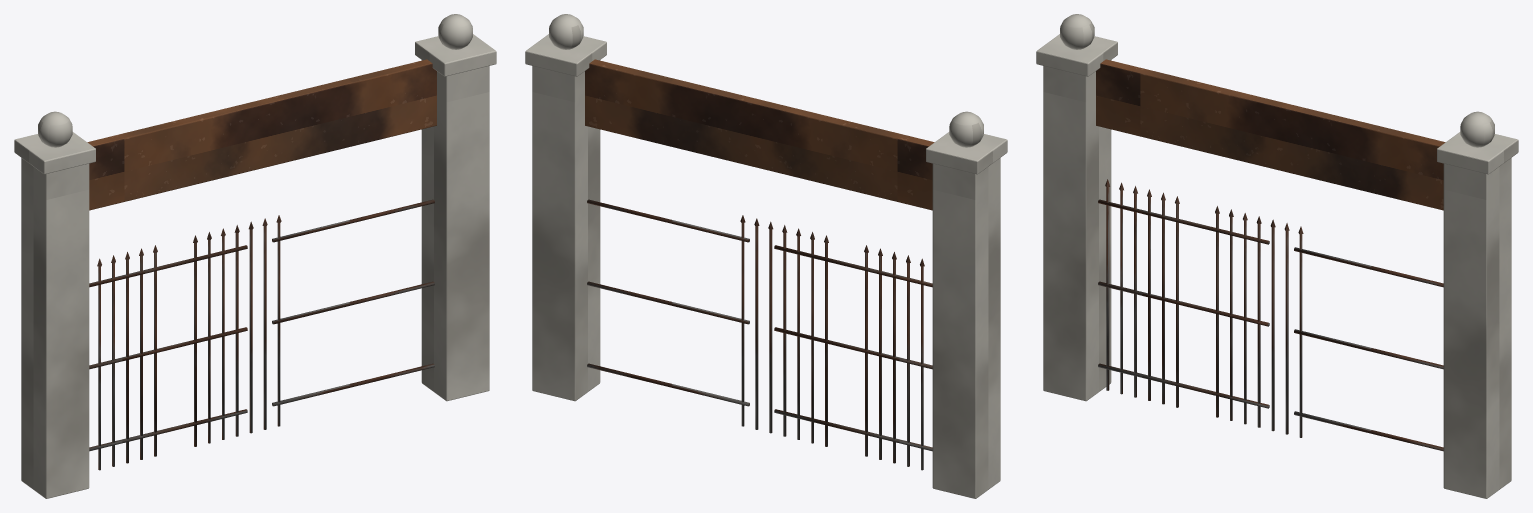
File: S13_school_gate_arch.glb
The picture shows the model from 3 angles, left to right: view 1: azimuth 30°, elevation 25°; view 2: azimuth 150°, elevation 25°; view 3: azimuth 330°, elevation 25°; orthographic projection.
Parts seen in each view (by area): view 1: S13_school_gate_arch; view 2: S13_school_gate_arch; view 3: S13_school_gate_arch.
Boxes of the visible parts, x1,y1,x2,y2 form: S13_school_gate_arch: (14,14,496,498); S13_school_gate_arch: (525,14,1007,498); S13_school_gate_arch: (1036,14,1518,498).
Bounding box in the file's own units: 5 × 3.92 × 0.5769.
Materials: 3 (3 with a texture image).
